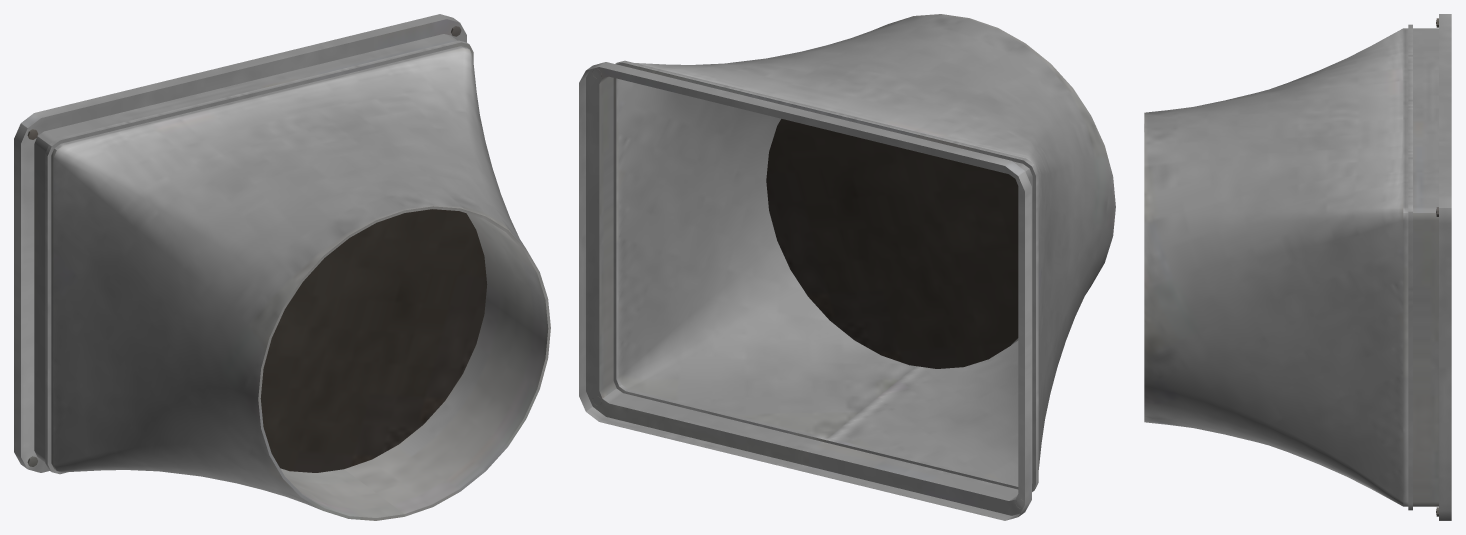
File: rectangular_converter.gltf
The picture shows the model from 3 angles, left to right: view 1: azimuth 30°, elevation 25°; view 2: azimuth 150°, elevation 25°; view 3: azimuth 270°, elevation 25°; orthographic projection. The views are drawn at different scales.
Parts seen in each view (by area): view 1: rectangular_converter; view 2: rectangular_converter; view 3: rectangular_converter.
Part boxes in pixels (x1=…): rectangular_converter: x1=14, y1=14, x2=550, y2=520; rectangular_converter: x1=579, y1=14, x2=1115, y2=520; rectangular_converter: x1=1144, y1=14, x2=1451, y2=520.
Bounding box in the file's own units: 0.5521 × 0.42 × 0.3594.
Materials: 1 (1 with a texture image).
